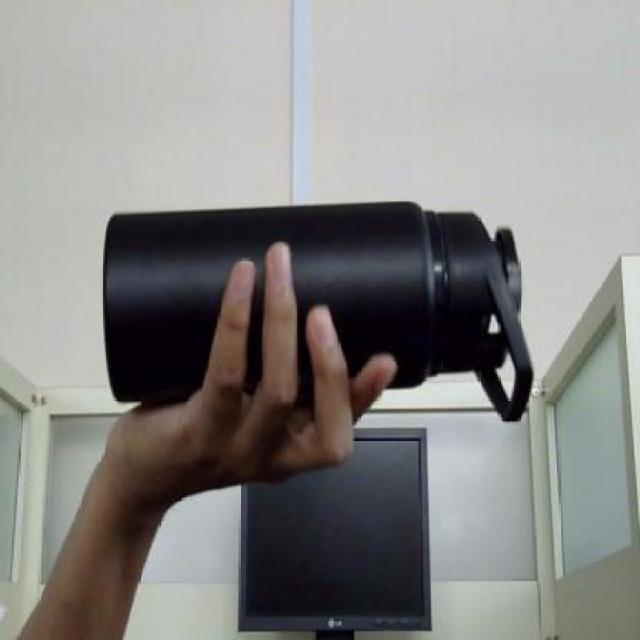Metal: (101, 201, 433, 406)
